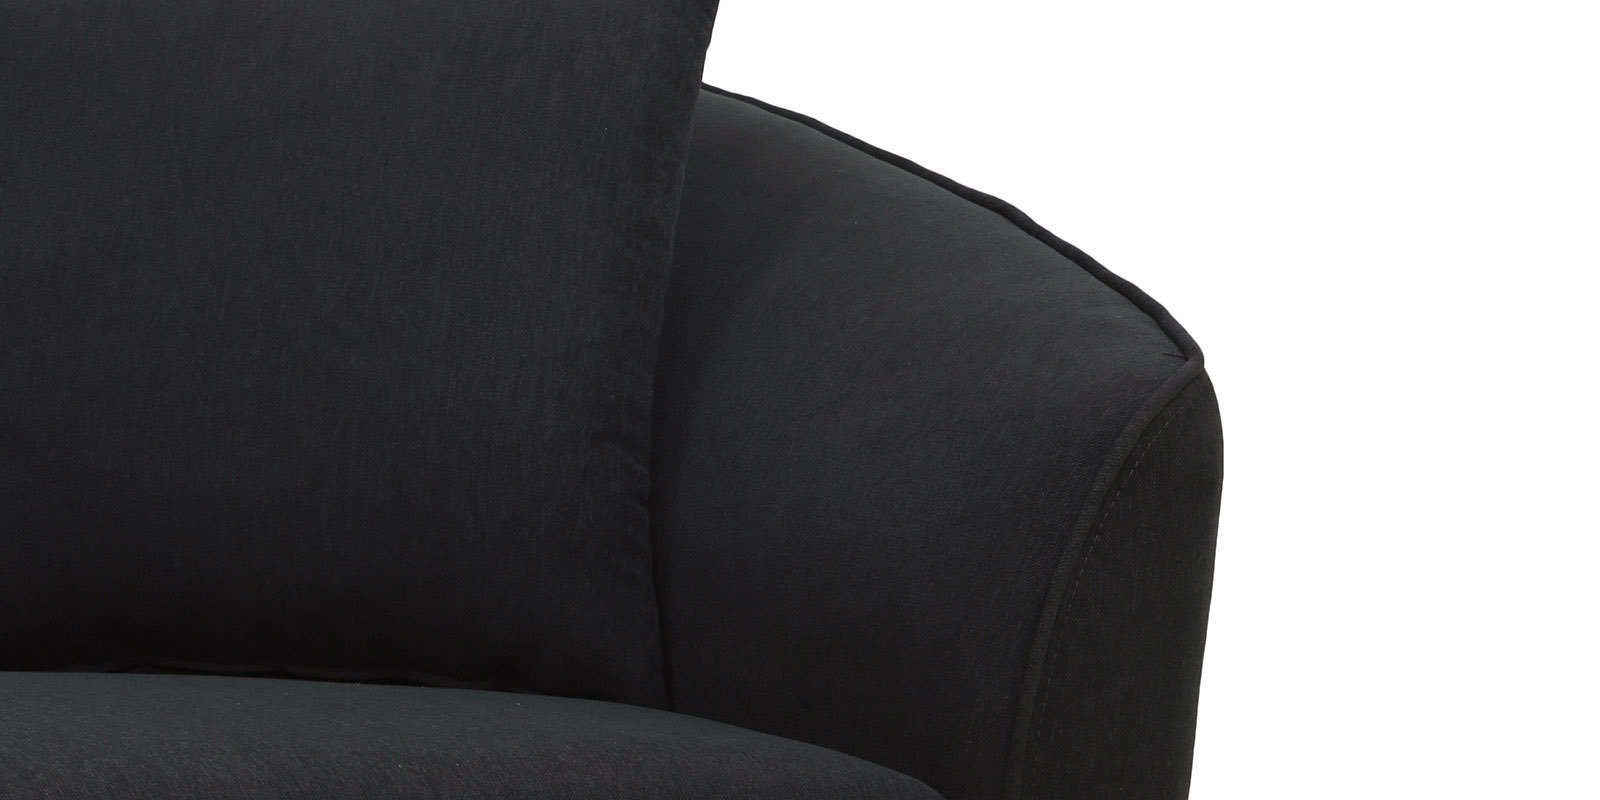Mamore Three Seater Sofa in Charcoal Grey Color by CasaCraft: (2, 1, 1226, 800)
